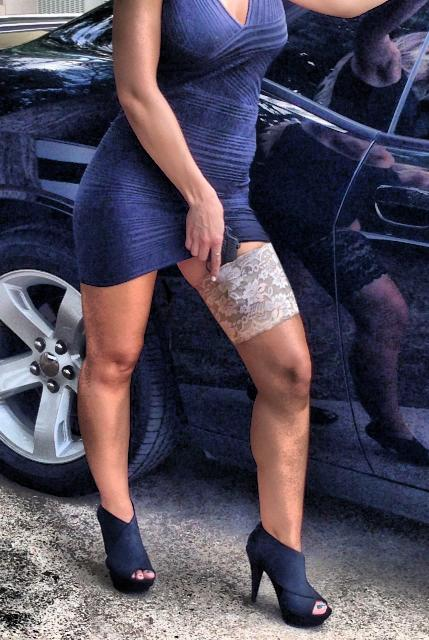pistol: (192, 224, 244, 276)
